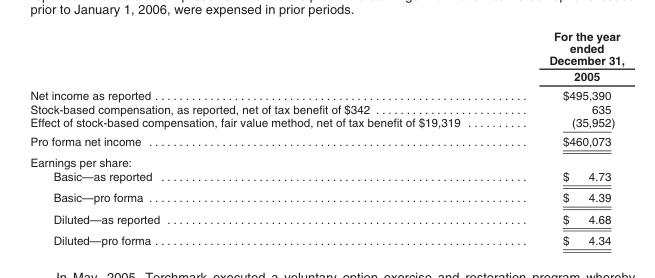table: (29, 29, 624, 246)
table column: (29, 29, 504, 246), (504, 29, 624, 246)
table column header: (29, 29, 624, 85)
table projected row header: (29, 151, 624, 169)
table row: (29, 29, 624, 85), (29, 207, 624, 229), (29, 186, 624, 207), (29, 131, 624, 151), (29, 151, 624, 169), (29, 169, 624, 186), (29, 229, 624, 246), (29, 85, 624, 101), (29, 115, 624, 131), (29, 101, 624, 115)
